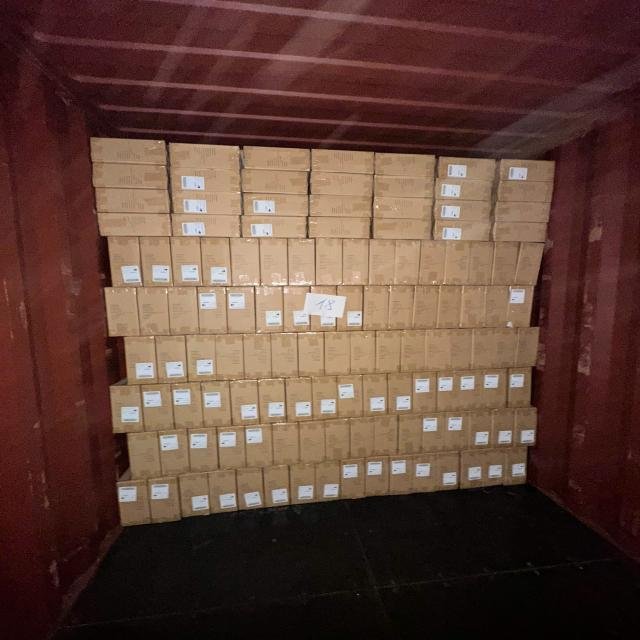Carton: (167, 141, 243, 170), (88, 137, 166, 165), (94, 164, 172, 192), (96, 188, 172, 216), (97, 211, 174, 237), (171, 170, 242, 196), (107, 238, 142, 290), (243, 146, 312, 172), (173, 191, 242, 217), (242, 169, 310, 195), (104, 289, 140, 338), (313, 150, 377, 177), (142, 238, 175, 290), (137, 288, 171, 338), (174, 214, 244, 238), (312, 172, 376, 198), (126, 336, 159, 386), (374, 153, 435, 180), (128, 432, 162, 480), (116, 479, 150, 527), (242, 194, 310, 218), (113, 386, 145, 436), (432, 177, 495, 202), (242, 216, 310, 239), (496, 156, 556, 182), (149, 477, 182, 524), (172, 237, 203, 287), (434, 155, 496, 180), (158, 336, 190, 384), (141, 383, 173, 431), (310, 195, 374, 219), (373, 175, 434, 200), (494, 181, 555, 206), (309, 216, 372, 240), (202, 237, 232, 287), (232, 239, 262, 289), (169, 289, 200, 337), (432, 218, 494, 242), (491, 219, 549, 244), (199, 288, 229, 336), (370, 217, 432, 240), (493, 200, 552, 224), (180, 472, 210, 519), (173, 382, 203, 429), (373, 197, 434, 220), (187, 334, 216, 382), (256, 288, 285, 336), (262, 240, 290, 289), (289, 238, 317, 287), (228, 289, 257, 336), (208, 470, 238, 515), (315, 238, 343, 286), (504, 286, 536, 328), (430, 199, 491, 221), (203, 381, 232, 427), (215, 335, 244, 381), (188, 429, 218, 473), (159, 432, 189, 476), (516, 243, 545, 288), (343, 240, 370, 288), (244, 334, 272, 380), (369, 239, 396, 286), (393, 240, 420, 287), (337, 285, 364, 332), (260, 378, 288, 423), (232, 380, 260, 425), (272, 424, 300, 468), (245, 425, 273, 469), (217, 428, 245, 471), (264, 467, 292, 510), (284, 288, 310, 334), (362, 287, 388, 333), (324, 332, 350, 378), (419, 240, 445, 286), (312, 376, 338, 422), (493, 327, 522, 368), (299, 334, 326, 378), (237, 468, 264, 512), (388, 287, 414, 332), (286, 377, 312, 422), (272, 334, 298, 379), (444, 243, 470, 288), (424, 330, 451, 373), (314, 286, 339, 332), (363, 374, 389, 418), (492, 242, 518, 286), (300, 422, 326, 466), (376, 332, 402, 376), (481, 369, 508, 411), (455, 370, 482, 412), (468, 241, 493, 286), (324, 418, 350, 461), (340, 458, 366, 501), (460, 287, 486, 330), (399, 331, 425, 374), (338, 376, 364, 419), (459, 448, 486, 489), (444, 411, 471, 452), (414, 286, 439, 330), (351, 332, 376, 376), (484, 284, 509, 328), (289, 465, 315, 507), (315, 463, 341, 505), (387, 373, 412, 416), (508, 368, 534, 409), (412, 453, 438, 494), (516, 327, 541, 369), (504, 447, 530, 487), (472, 327, 496, 370), (350, 417, 375, 458), (439, 285, 462, 329), (389, 454, 413, 496), (412, 372, 436, 414), (421, 412, 445, 454), (449, 329, 473, 371), (437, 371, 460, 414), (364, 456, 388, 497), (397, 415, 421, 456), (437, 452, 461, 492), (375, 416, 399, 456), (515, 408, 539, 448), (468, 409, 492, 449), (492, 408, 515, 448), (484, 447, 507, 487)
